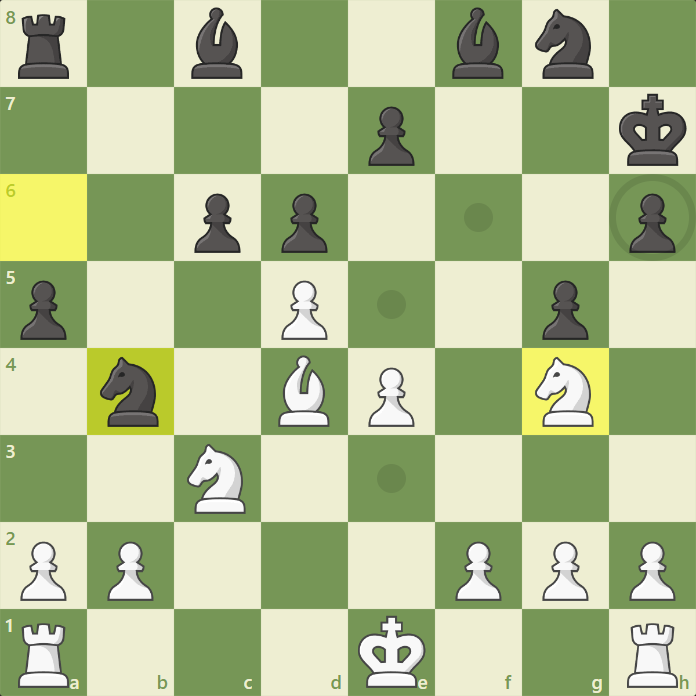B: (275, 352, 331, 430)
K: (355, 614, 427, 690)
N: (183, 442, 249, 517), (531, 355, 596, 430)
P: (366, 365, 417, 431), (278, 278, 329, 344), (452, 538, 503, 603), (539, 539, 590, 604), (625, 539, 676, 604), (105, 538, 156, 603), (17, 539, 68, 604)
R: (16, 618, 73, 692), (625, 619, 681, 690)
b: (448, 4, 508, 83), (187, 5, 247, 84)
k: (616, 91, 689, 170)
n: (96, 355, 165, 430), (533, 6, 597, 83)
p: (538, 278, 591, 343), (625, 191, 678, 256), (365, 104, 418, 169), (277, 190, 330, 255), (190, 190, 243, 255), (17, 277, 70, 342)
r: (13, 11, 72, 83)
